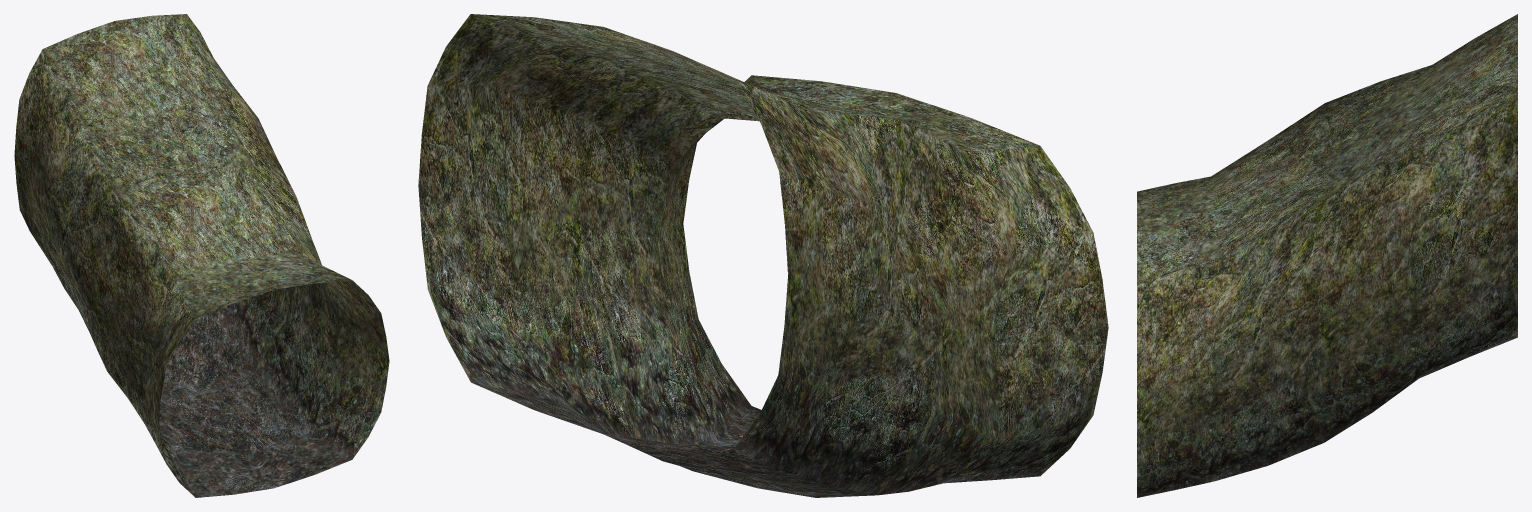
File: thm_all_cave_s03_damprock_mirror_r15_r15.fbx
3 views of the same model, side by side, from view 1: azimuth 30°, elevation 25°; view 2: azimuth 150°, elevation 25°; view 3: azimuth 270°, elevation 25° (orthographic). The views are drawn at different scales.
Parts seen in each view (by area): view 1: mesh_node; view 2: mesh_node; view 3: mesh_node.
Boxes of the visible parts, x1,y1,x2,y2 form: mesh_node: (14,14,389,497); mesh_node: (418,14,1108,497); mesh_node: (1137,14,1517,497).
Size of the model in its own units: 10.42 by 15.14 by 12.44.
